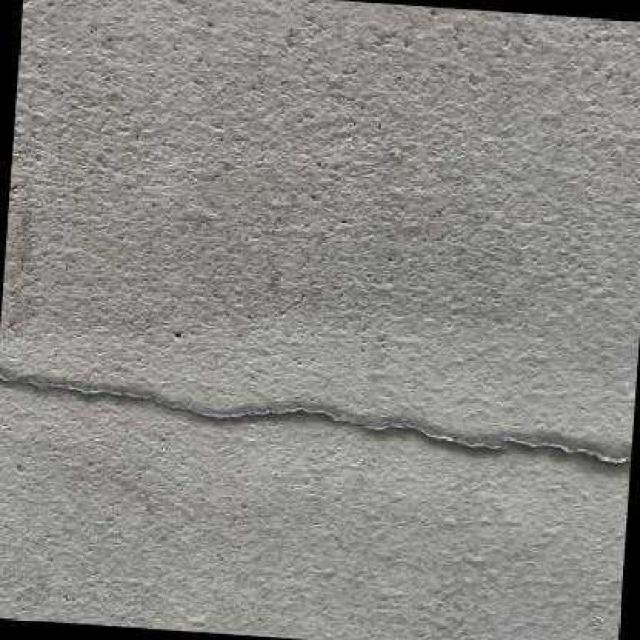D00: (0, 376, 505, 449), (502, 436, 631, 462)
